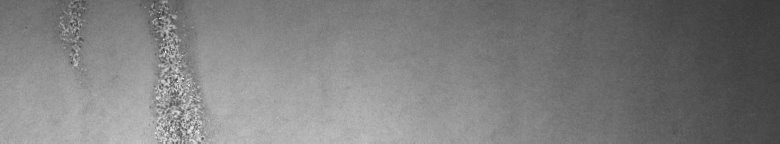hc: (52, 4, 210, 136)
